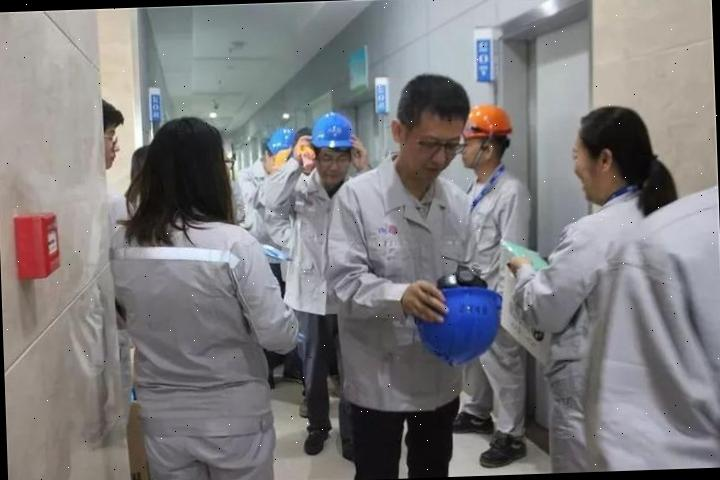helmet: (303, 108, 361, 152), (464, 102, 516, 139), (262, 124, 298, 152)
no_wear: (600, 206, 720, 471), (344, 170, 460, 416), (284, 177, 364, 320)
